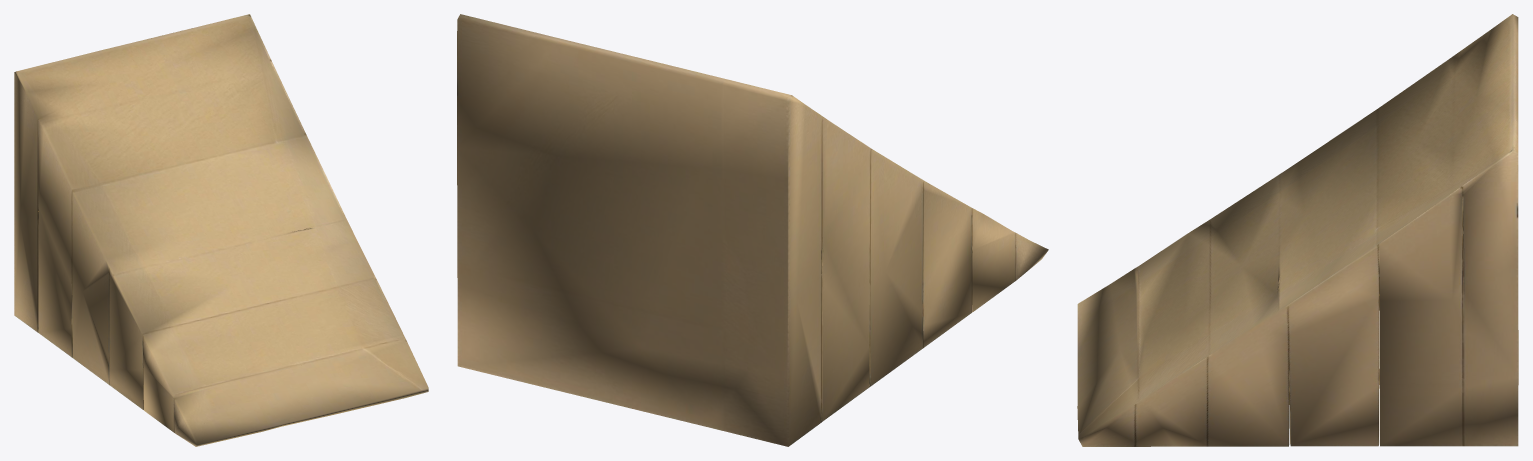
The model's file is ramp.glb.
3 views of the same model, side by side, from view 1: azimuth 30°, elevation 25°; view 2: azimuth 150°, elevation 25°; view 3: azimuth 270°, elevation 25° (orthographic). The views are drawn at different scales.
Visible parts, largest first — view 1: Mesh1; view 2: Mesh1; view 3: Mesh1.
Boxes of the visible parts, x1,y1,x2,y2 form: Mesh1: (14, 14, 428, 446); Mesh1: (457, 14, 1048, 446); Mesh1: (1077, 14, 1518, 446).
Size of the model in its own units: 1.46 by 1.48 by 1.99.
1 material, 1 textured.
